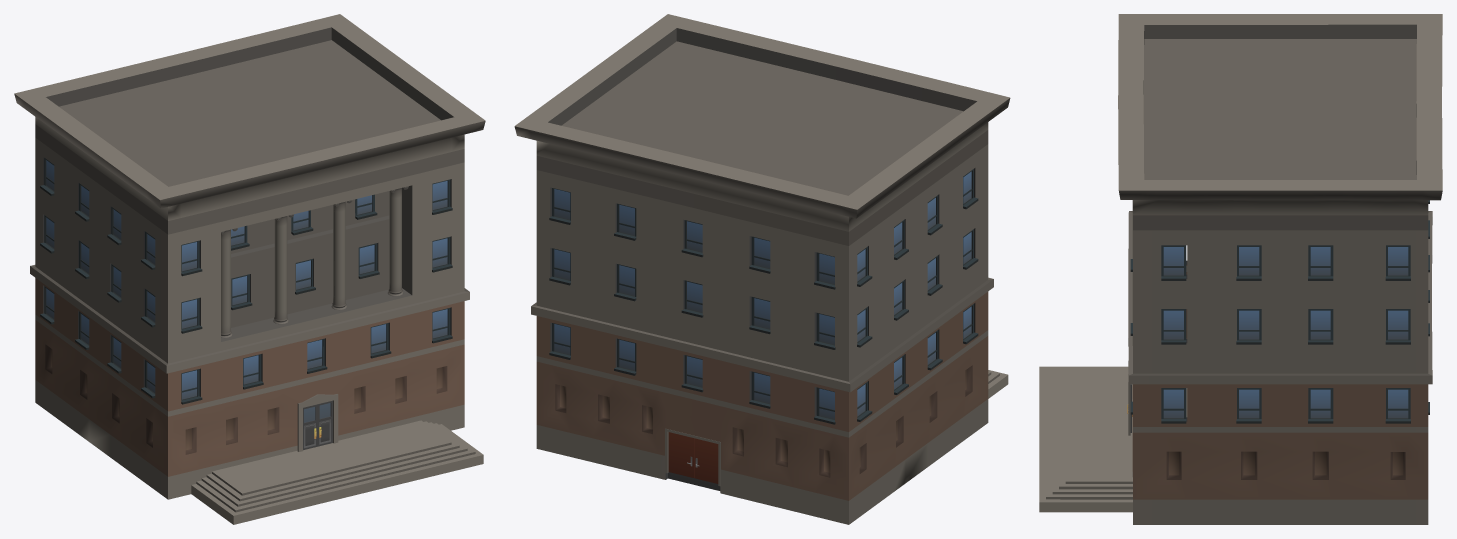
The model's file is buildings-business-bank_v1.glb.
3 views of the same model, side by side, from view 1: azimuth 30°, elevation 25°; view 2: azimuth 150°, elevation 25°; view 3: azimuth 270°, elevation 25° (orthographic). The views are drawn at different scales.
Visible parts, largest first — view 1: Bank_base, Bank_windowRefl; view 2: Bank_base, Bank_windowRefl; view 3: Bank_base, Bank_windowRefl.
Part boxes in pixels (x1,y1,x2,y2): Bank_base: (14, 14, 485, 524); Bank_windowRefl: (46, 160, 447, 422); Bank_base: (514, 14, 1010, 524); Bank_windowRefl: (554, 171, 971, 419); Bank_base: (1039, 14, 1442, 524); Bank_windowRefl: (1163, 247, 1408, 418).
Size of the model in its own units: 25.66 by 23.16 by 24.75.
